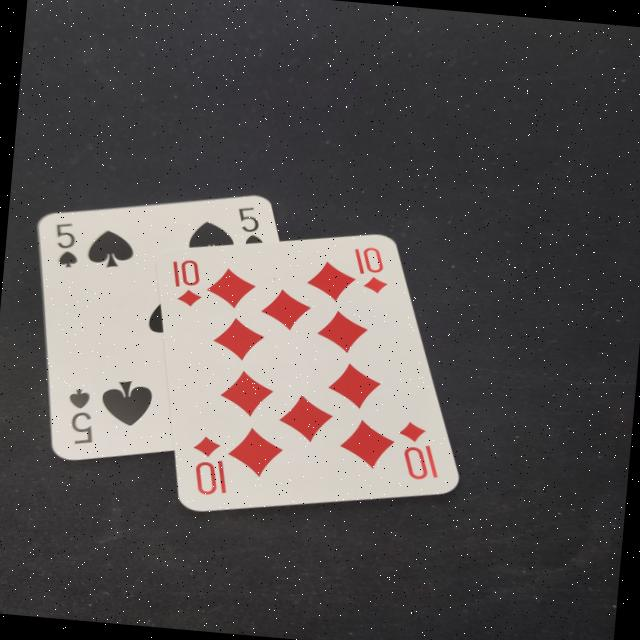10d: (340, 238, 416, 306), (177, 429, 244, 502), (393, 413, 453, 488), (162, 252, 206, 313)
5s: (56, 378, 102, 452), (40, 214, 91, 278), (223, 202, 276, 256)
